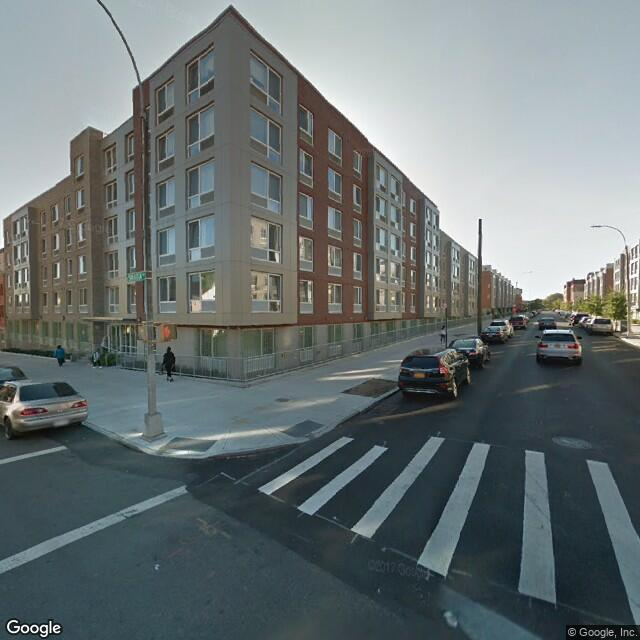litter: (154, 563, 161, 571)
